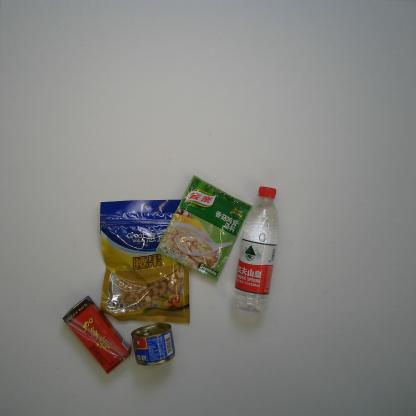Canned Food: (130, 321, 175, 367)
Dried Fruit: (97, 199, 192, 325)
Drink: (232, 185, 280, 315), (62, 295, 133, 375)
Seasoner: (156, 174, 253, 283)
